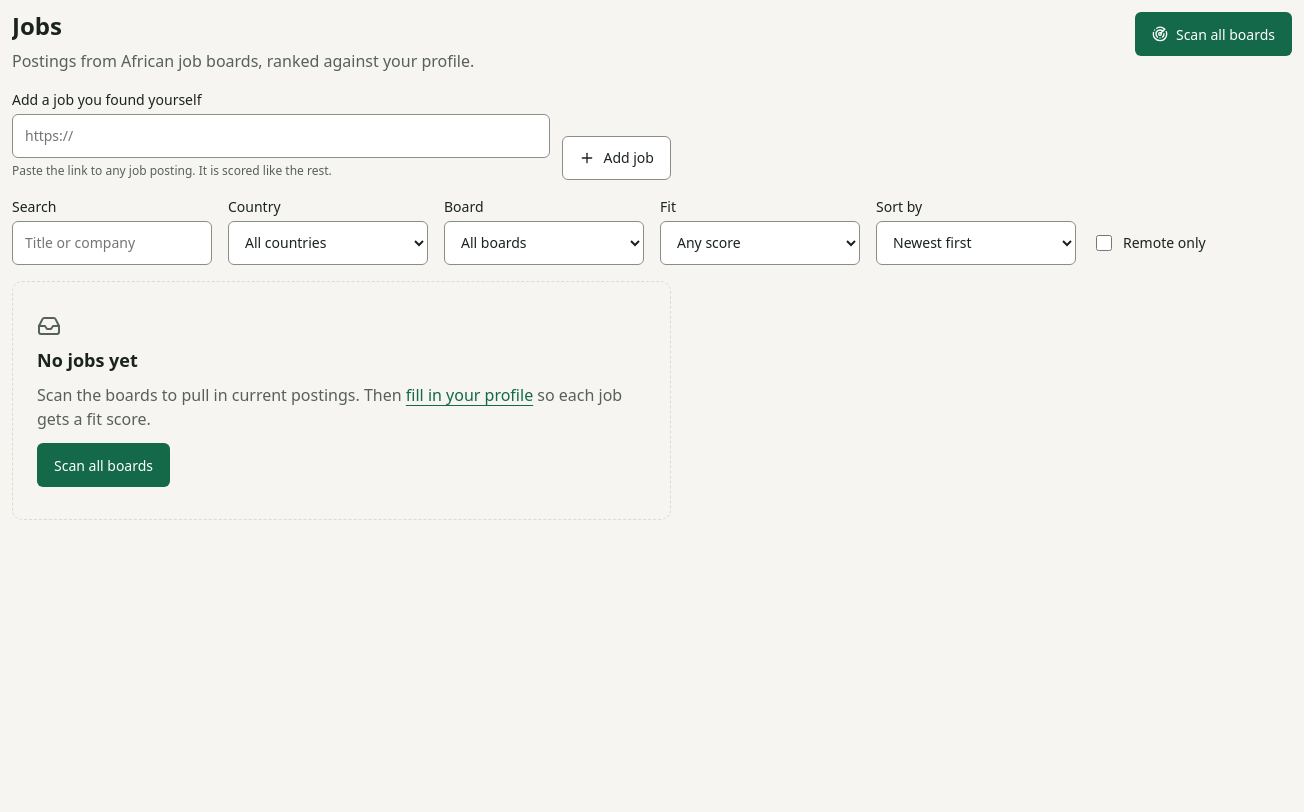
JobsPage › adds a job from a link and offers to follow its employer
Type "https://job-boards.greenhouse.io/acme/jobs/1" into the field labelled "Add a job you found yourself" at (281, 136), box [12,114,550,158]
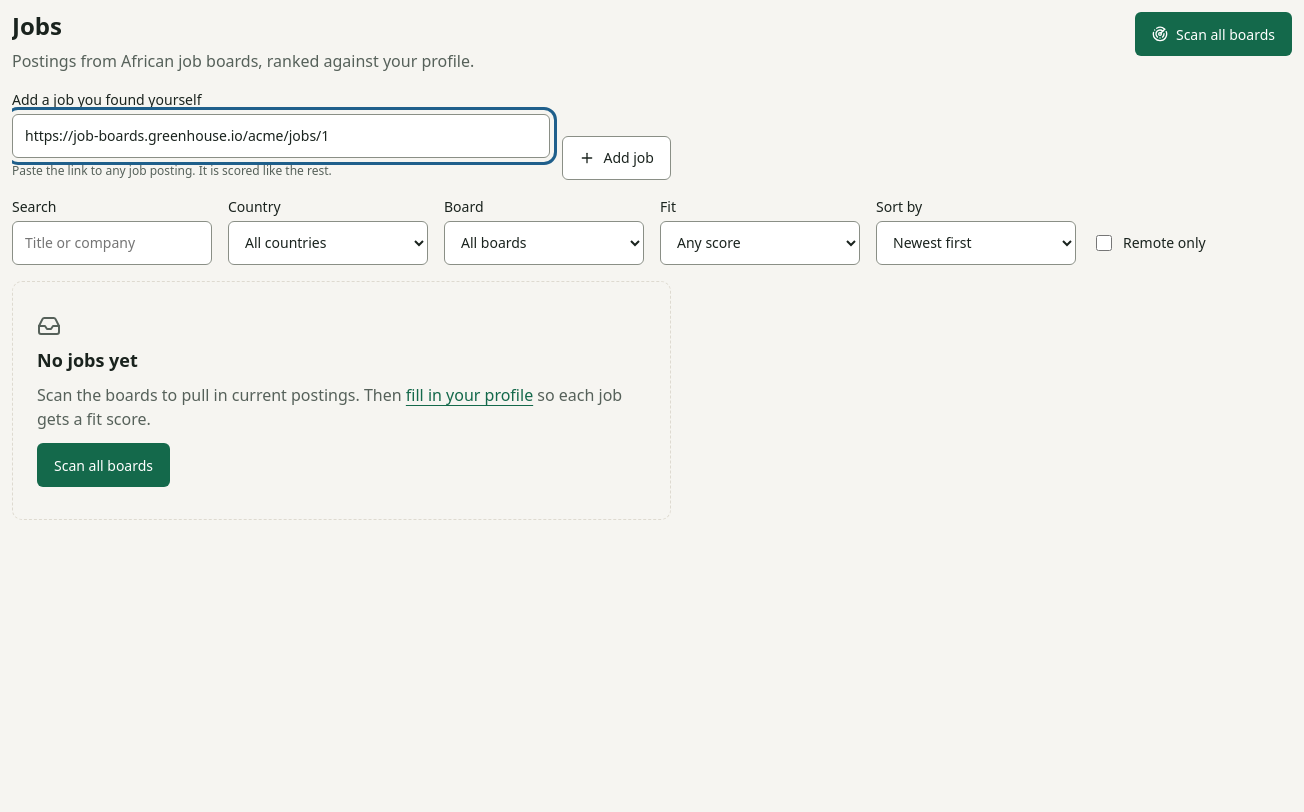
Click the button "Add job" at (617, 158), box [562,136,671,180]
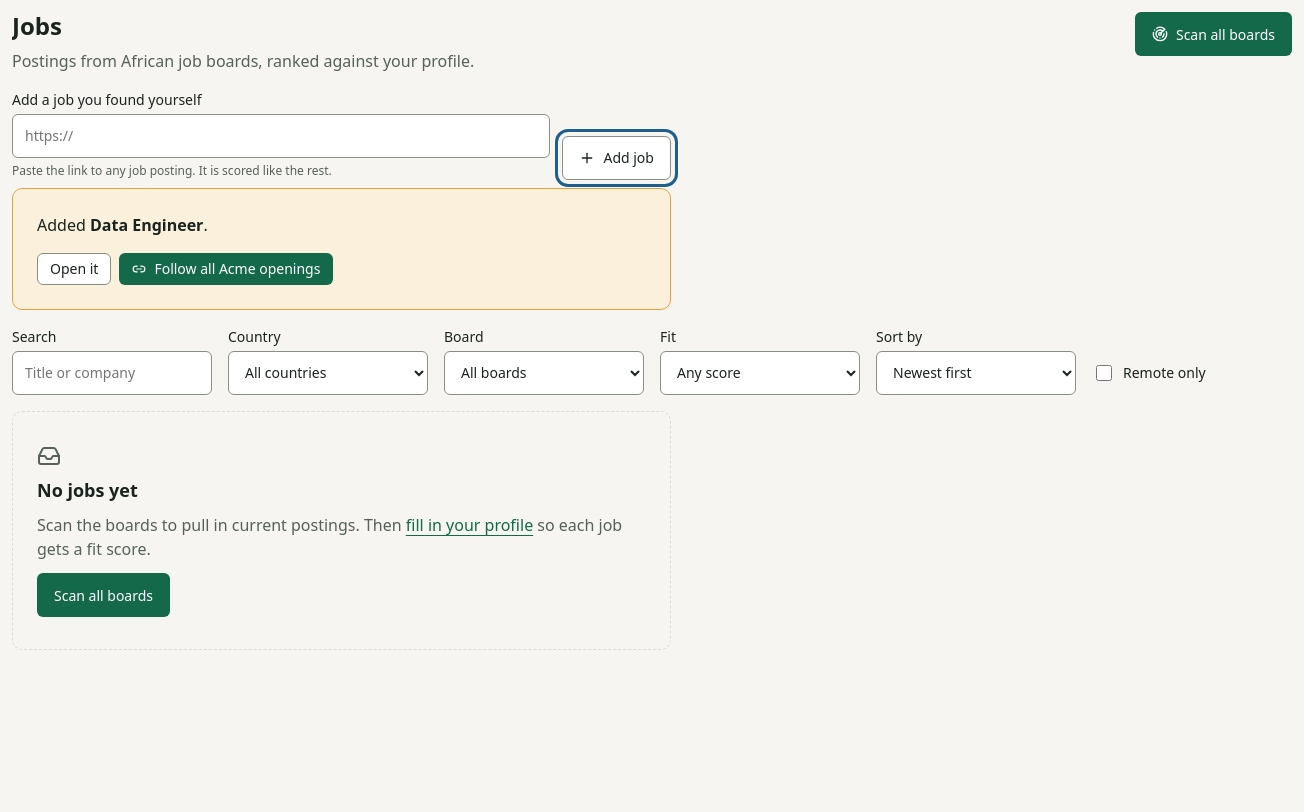
Click the button "Follow all Acme openings" at (226, 269), box [119,253,333,285]
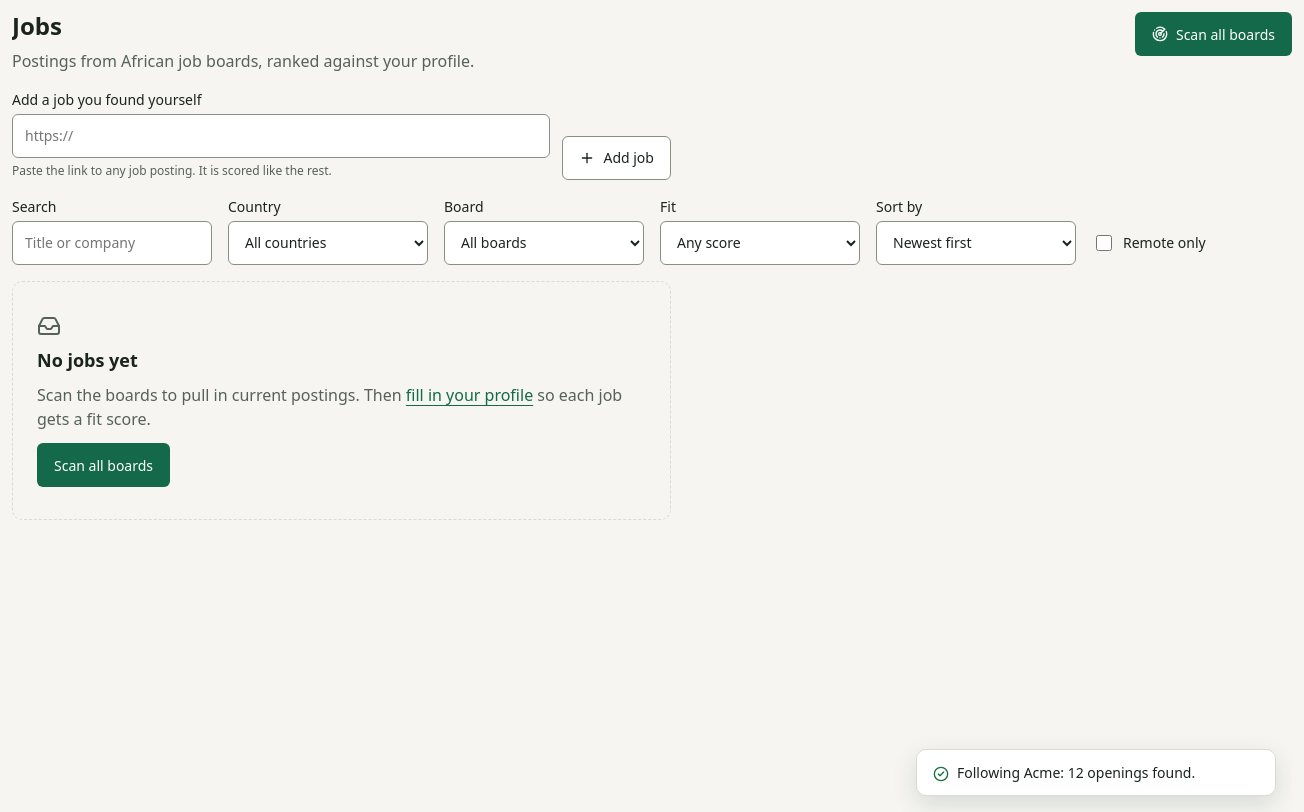
Expected: the text "Following Acme: 12 openings found." is shown, [957,762,1195,783]
